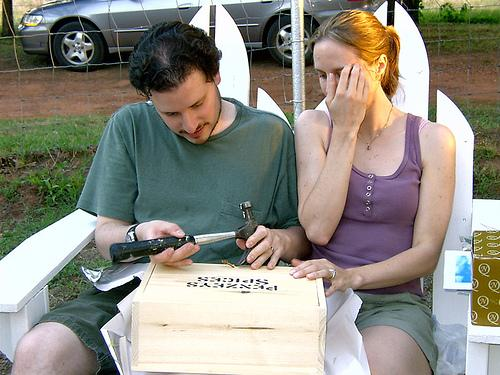hammer: (107, 199, 258, 263)
